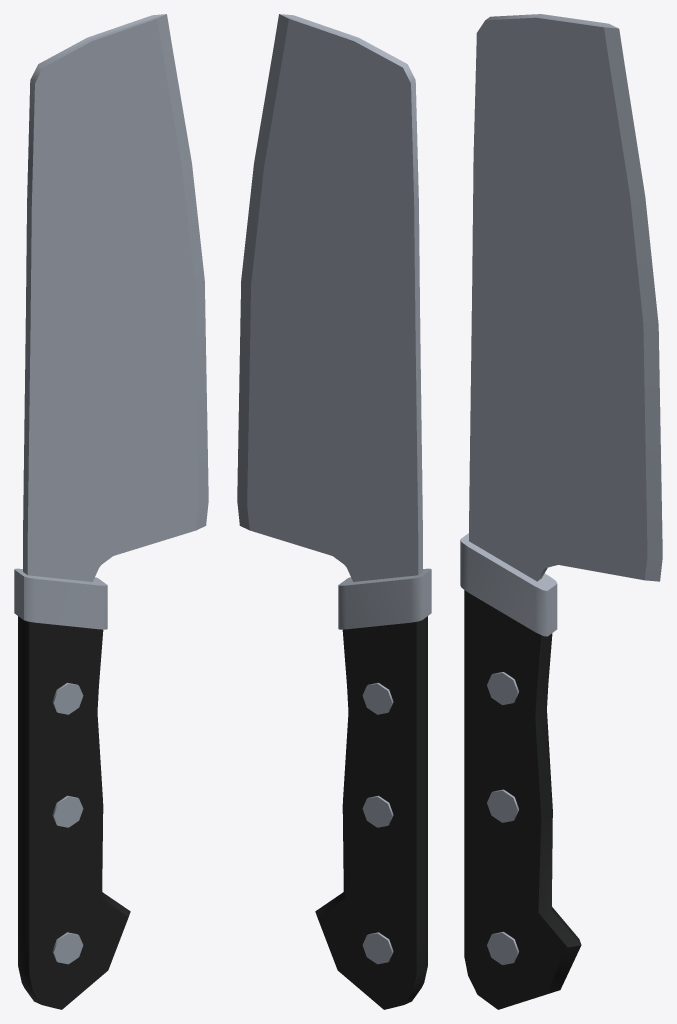
Rendered from cooking_assets_naikiri_knife.glb.
3 renders of one model, left to right at view 1: azimuth 30°, elevation 25°; view 2: azimuth 150°, elevation 25°; view 3: azimuth 330°, elevation 25°, orthographic. The views are drawn at different scales.
Parts seen in each view (by area): view 1: knife_naikiri_knife_Cube.008; view 2: knife_naikiri_knife_Cube.008; view 3: knife_naikiri_knife_Cube.008.
Part boxes in pixels (x1,y1,x2,y2): knife_naikiri_knife_Cube.008: (14, 14, 208, 1009); knife_naikiri_knife_Cube.008: (237, 14, 431, 1009); knife_naikiri_knife_Cube.008: (460, 14, 662, 1009).
Bounding box in the file's own units: 1.39 × 6.75 × 0.1754.
1 material, 1 textured.
